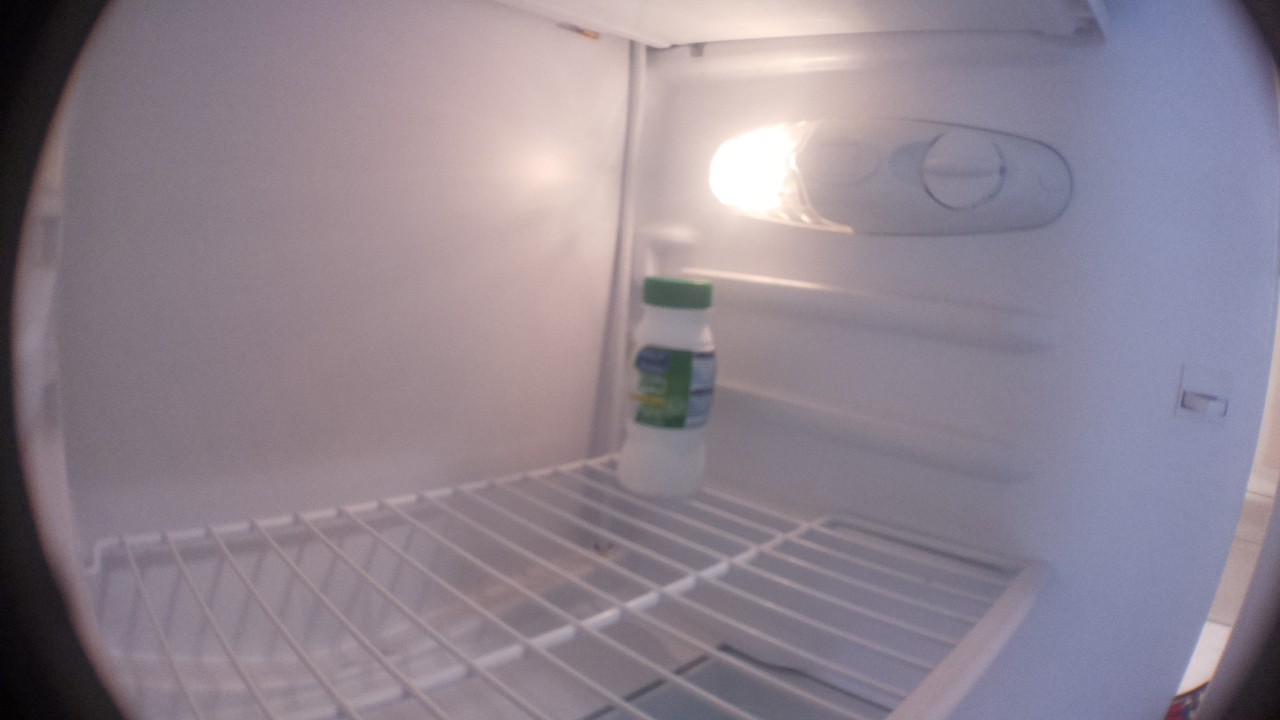laban: (612, 274, 718, 497)
